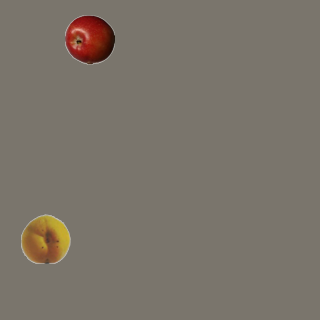Apple Braeburn: (64, 14, 114, 64)
Peach 2: (20, 213, 70, 263)
